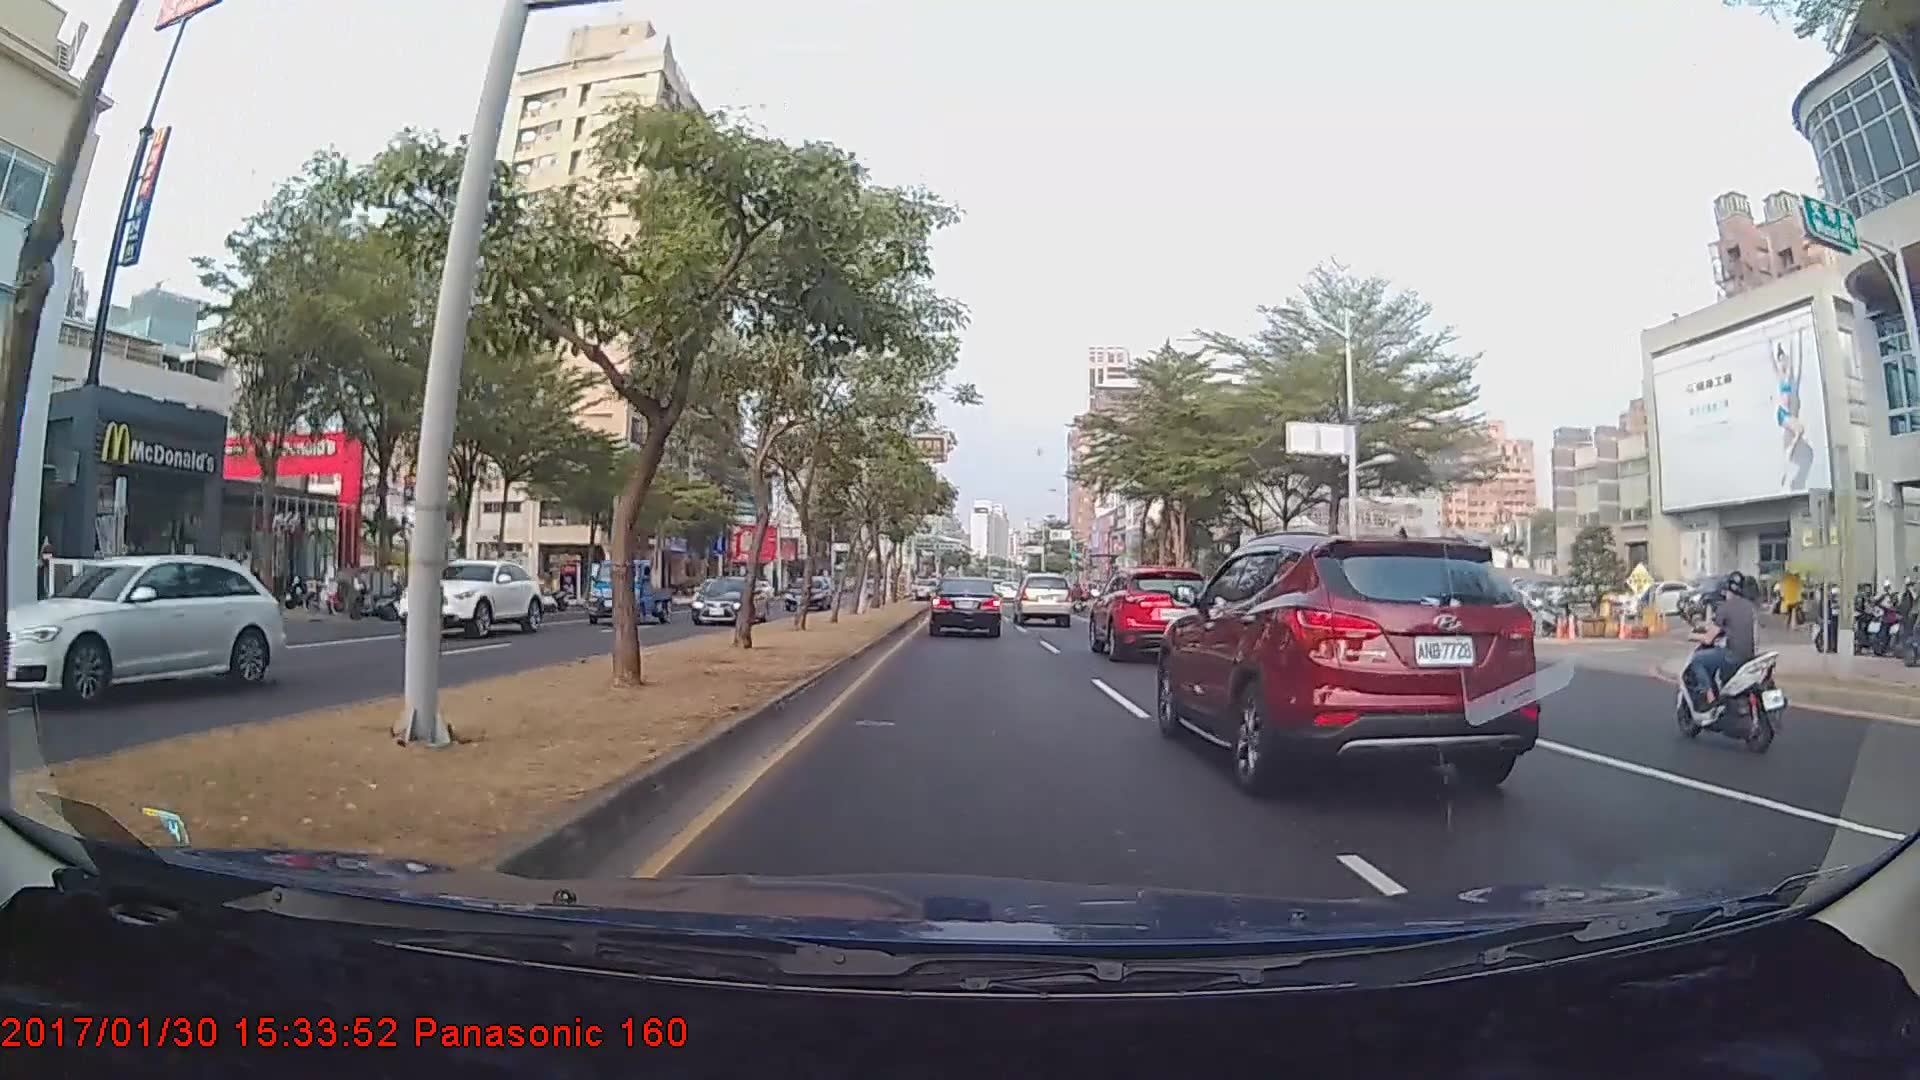rider: (1668, 567, 1790, 758)
vehicle: (1162, 530, 1531, 780), (0, 552, 283, 710), (394, 559, 545, 638), (1087, 566, 1209, 662), (586, 557, 675, 625), (929, 575, 1002, 638), (690, 573, 766, 629), (1013, 571, 1073, 628), (785, 574, 831, 612)
